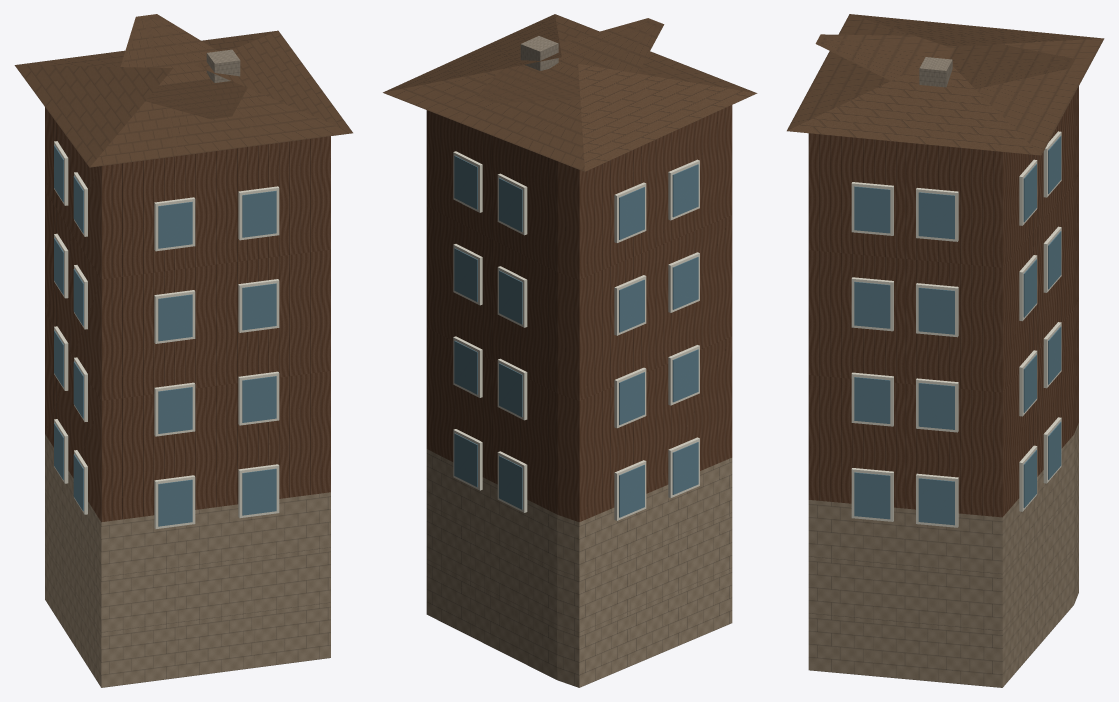
File: core_0029.gltf
The picture shows the model from 3 angles, left to right: view 1: azimuth 30°, elevation 25°; view 2: azimuth 150°, elevation 25°; view 3: azimuth 270°, elevation 25°; orthographic projection. The views are drawn at different scales.
Parts seen in each view (by area): view 1: core_0029; view 2: core_0029; view 3: core_0029.
Part boxes in pixels (x1,y1,x2,y2): core_0029: (14, 14, 352, 687); core_0029: (383, 14, 757, 687); core_0029: (787, 14, 1104, 687).
Bounding box in the file's own units: 9.09 × 17.45 × 8.62.
6 materials, 6 textured.
